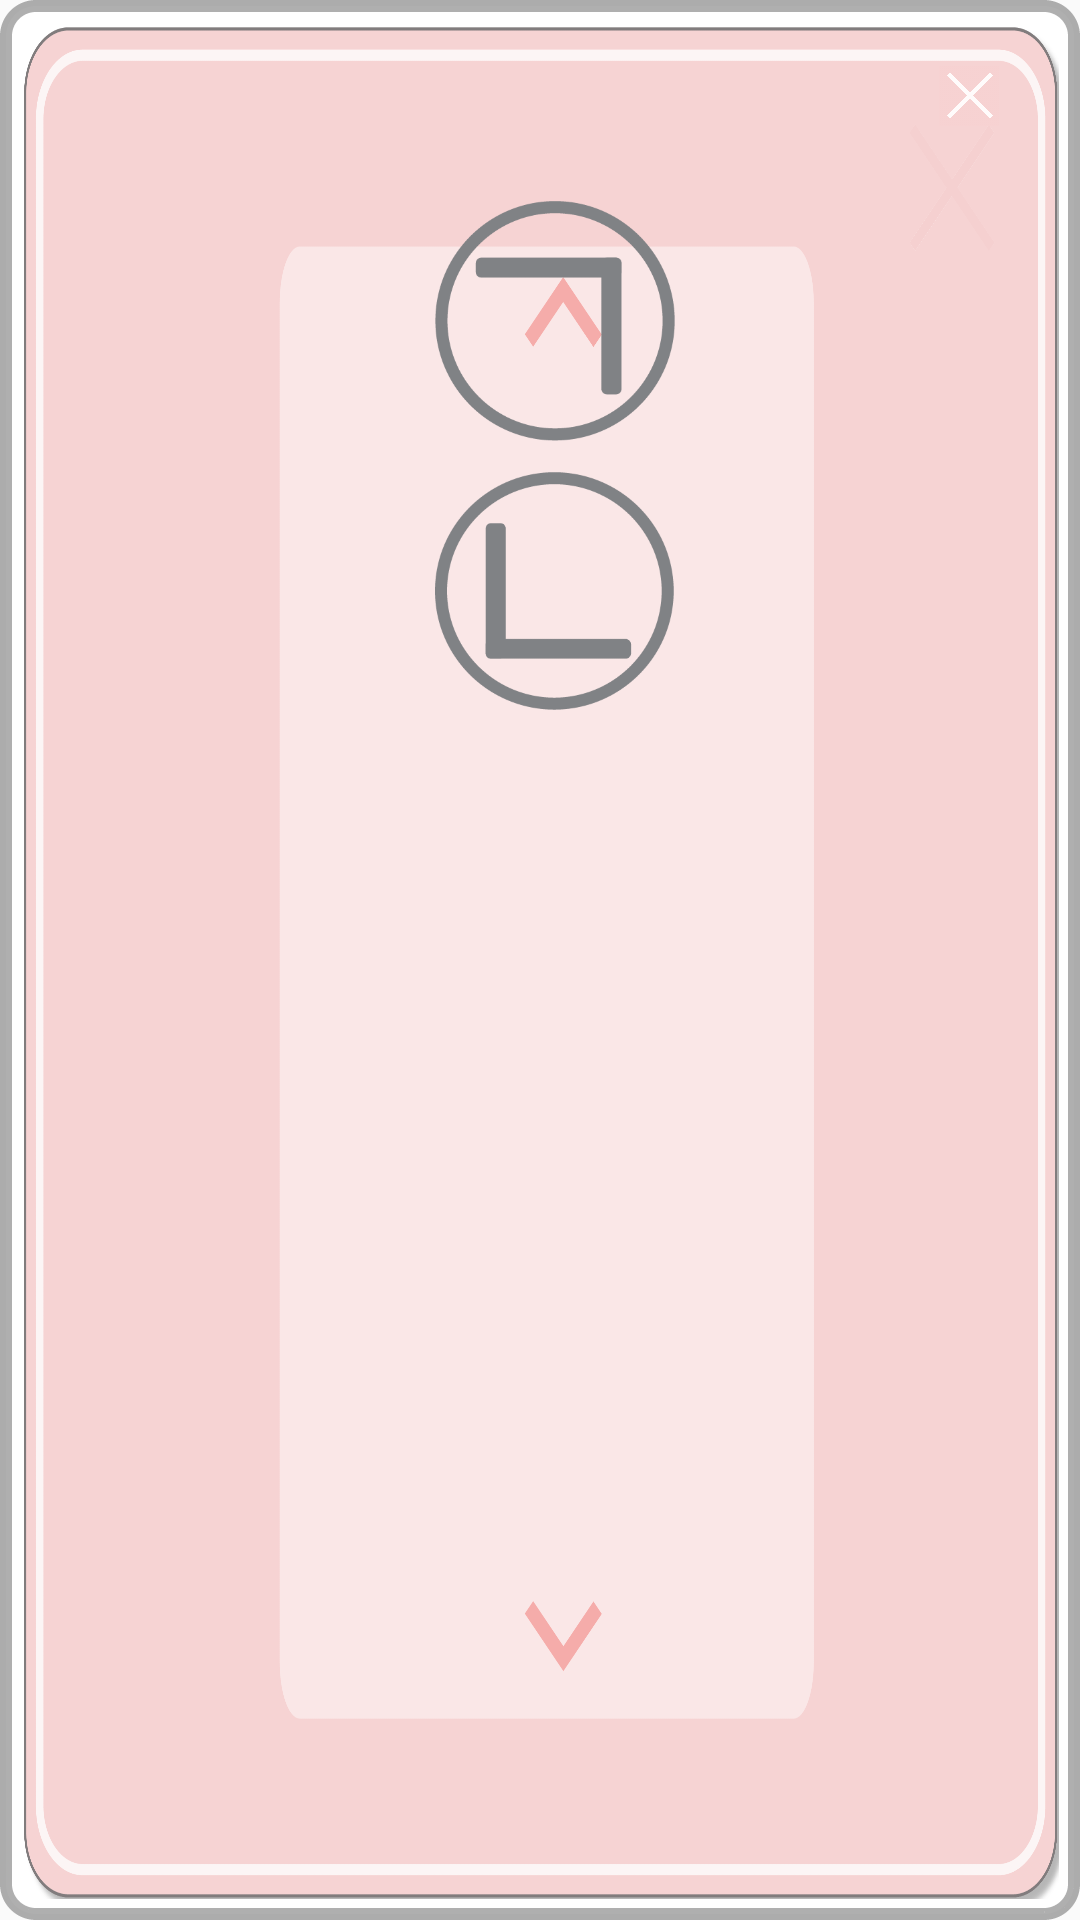

Where to tap for icons on this 1080px×1920px app screen, as [x,y]:
cancel: [970,95]
